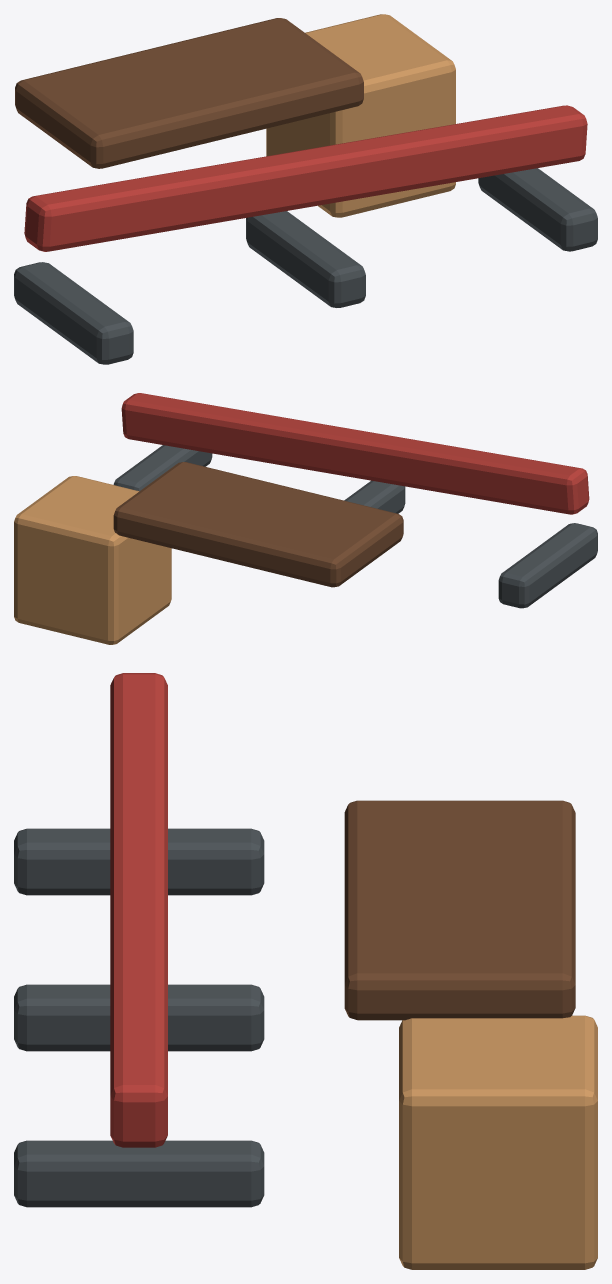
File: state_harsh_enforcement_v01.glb
3 renders of one model, top to bottom at view 1: azimuth 30°, elevation 25°; view 2: azimuth 150°, elevation 25°; view 3: azimuth 270°, elevation 25°, orthographic. The views are drawn at different scales.
Visible parts, largest first — view 1: GEO_BarricadeBeam, GEO_SearchTable, GEO_ConfiscationCrate, GEO_BarricadeLeg, GEO_BarricadeLeg.001, GEO_BarricadeLeg.002; view 2: GEO_BarricadeBeam, GEO_SearchTable, GEO_ConfiscationCrate, GEO_BarricadeLeg, GEO_BarricadeLeg.002, GEO_BarricadeLeg.001; view 3: GEO_SearchTable, GEO_ConfiscationCrate, GEO_BarricadeBeam, GEO_BarricadeLeg.002, GEO_BarricadeLeg.001, GEO_BarricadeLeg.
Part boxes in pixels (<box>): GEO_BarricadeBeam: <box>24,105,587,251</box>; GEO_SearchTable: <box>15,18,363,168</box>; GEO_ConfiscationCrate: <box>266,14,455,217</box>; GEO_BarricadeLeg: <box>14,262,133,364</box>; GEO_BarricadeLeg.001: <box>246,211,365,307</box>; GEO_BarricadeLeg.002: <box>478,168,597,251</box>; GEO_BarricadeBeam: <box>121,393,589,514</box>; GEO_SearchTable: <box>113,462,403,587</box>; GEO_ConfiscationCrate: <box>14,476,171,644</box>; GEO_BarricadeLeg: <box>498,523,597,608</box>; GEO_BarricadeLeg.002: <box>113,445,212,491</box>; GEO_BarricadeLeg.001: <box>344,480,405,513</box>; GEO_SearchTable: <box>344,800,575,1020</box>; GEO_ConfiscationCrate: <box>399,1015,597,1269</box>; GEO_BarricadeBeam: <box>110,673,167,1147</box>; GEO_BarricadeLeg.002: <box>14,1140,264,1207</box>; GEO_BarricadeLeg.001: <box>14,984,264,1051</box>; GEO_BarricadeLeg: <box>14,828,264,895</box>.
Bounding box in the file's own units: 2.72 × 0.8818 × 1.82.
